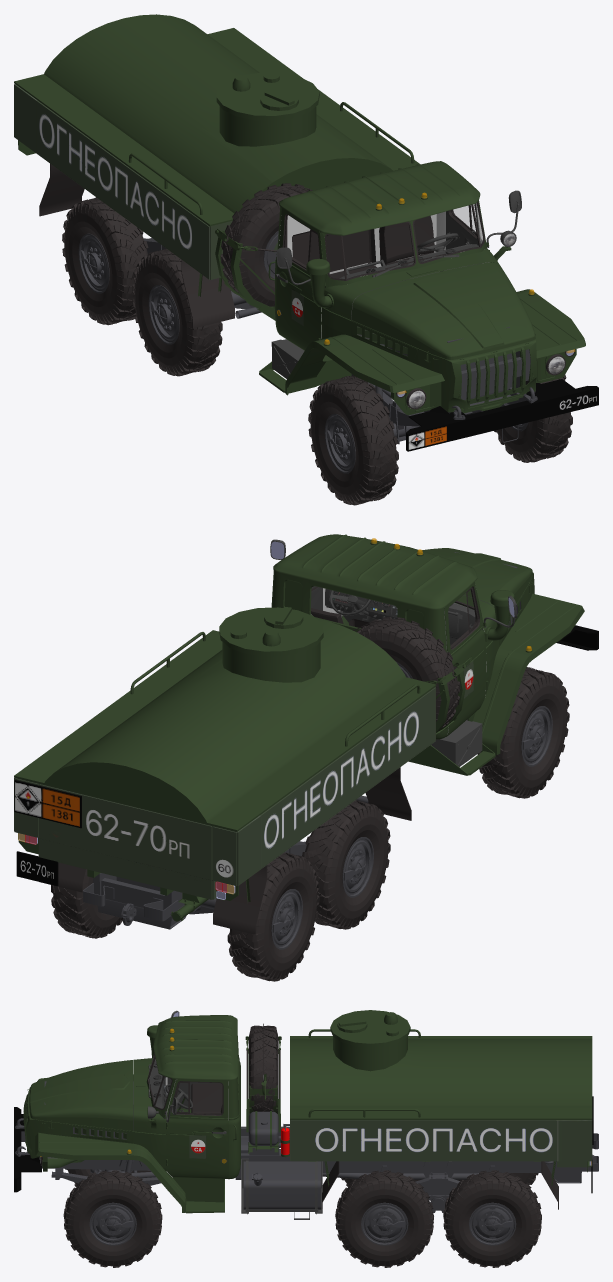
Rendered from ural_atz_5_4320_fuel_truck.glb.
The picture shows the model from 3 angles, top to bottom: view 1: azimuth 30°, elevation 25°; view 2: azimuth 150°, elevation 25°; view 3: azimuth 270°, elevation 25°; orthographic projection. The views are drawn at different scales.
Visible parts, largest first — view 1: polySurface52676, pPlane13, polySurface5186 (×2), polySurface5326, pPlane21, polySurface52254, polySurface52253, pPlane50, polySurface52255, polySurface5319, polySurface5155, polySurface5226 (+14 smaller); view 2: polySurface52676, pPlane21, polySurface5326, polySurface52254 (×2), polySurface52253, polySurface5186, polySurface52255, polySurface5155, polySurface52674, pPlane43, polySurface5226, pPlane13 (+11 smaller); view 3: polySurface52676, polySurface52253, polySurface52254, polySurface5186, pPlane13, pPlane21, polySurface5326, polySurface5222, polySurface5314, pPlane11, polySurface5315, polySurface52255 (+16 smaller).
Part boxes in pixels (x1,y1,x2,y2): polySurface52676: [14, 14, 420, 279]; pPlane13: [351, 262, 535, 359]; polySurface5186 (×2): [308, 375, 572, 505]; polySurface5326: [259, 289, 585, 395]; pPlane21: [279, 161, 480, 235]; polySurface52254: [62, 197, 148, 325]; polySurface52253: [132, 248, 222, 376]; pPlane50: [406, 379, 598, 451]; polySurface52255: [220, 183, 311, 306]; polySurface5319: [292, 216, 434, 278]; polySurface5155: [39, 163, 234, 328]; polySurface5226: [276, 208, 322, 350]; polySurface52676: [14, 606, 436, 899]; pPlane21: [273, 534, 477, 609]; polySurface5326: [408, 593, 584, 775]; polySurface52254 (×2): [51, 852, 319, 981]; polySurface52253: [302, 800, 390, 929]; polySurface5186: [477, 667, 569, 798]; polySurface52255: [356, 617, 460, 727]; polySurface5155: [41, 767, 411, 934]; polySurface52674: [14, 780, 81, 886]; pPlane43: [271, 570, 448, 739]; polySurface5226: [444, 582, 488, 736]; pPlane13: [422, 548, 532, 606]; polySurface52676: [290, 1010, 592, 1167]; polySurface52253: [335, 1170, 433, 1267]; polySurface52254: [443, 1170, 541, 1267]; polySurface5186: [63, 1170, 162, 1267]; pPlane13: [29, 1060, 132, 1130]; pPlane21: [153, 1015, 237, 1080]; polySurface5326: [35, 1077, 224, 1213]; polySurface5222: [166, 1079, 228, 1178]; polySurface5314: [21, 1126, 581, 1172]; pPlane11: [243, 1161, 321, 1209]; polySurface5315: [47, 1124, 495, 1213]; polySurface52255: [248, 1025, 278, 1114].
Size of the model in its own units: 3.2 by 3.41 by 8.62.
13 materials, 3 textured.
